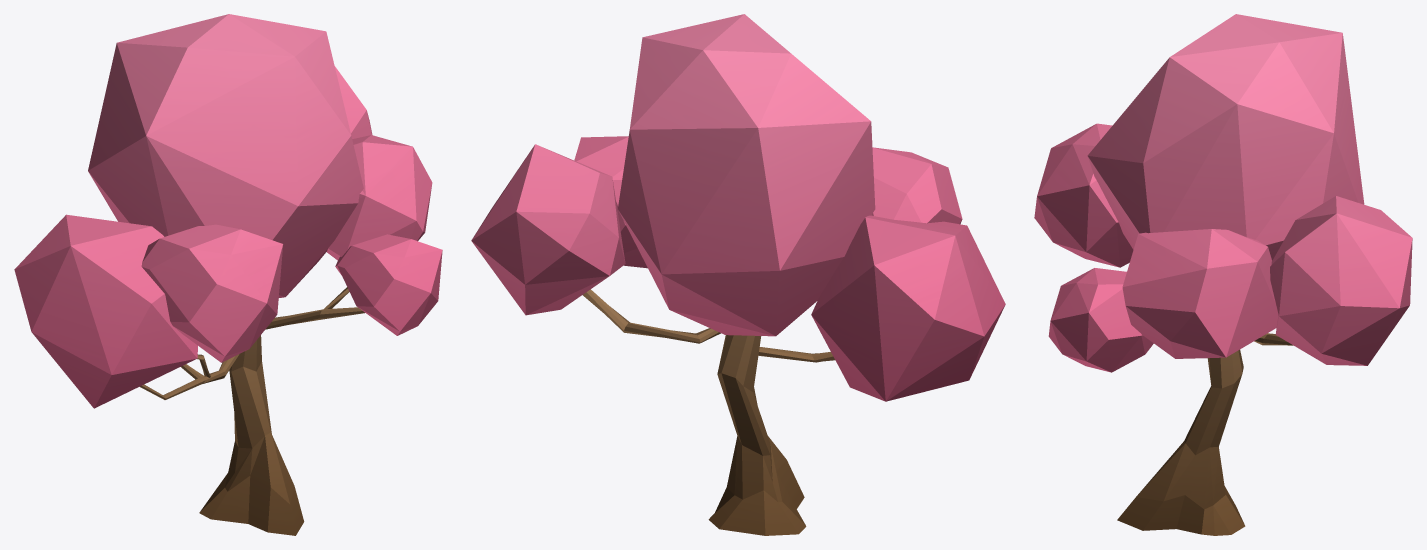
The model's file is tree_oak_pink.fbx.
3 renders of one model, left to right at view 1: azimuth 30°, elevation 25°; view 2: azimuth 150°, elevation 25°; view 3: azimuth 270°, elevation 25°, orthographic. The views are drawn at different scales.
Parts seen in each view (by area): view 1: tree_oak_pink; view 2: tree_oak_pink; view 3: tree_oak_pink.
Boxes of the visible parts, left/top/right/bottom form: tree_oak_pink: left=14, top=14, right=442, bottom=535; tree_oak_pink: left=471, top=14, right=1005, bottom=535; tree_oak_pink: left=1034, top=14, right=1412, bottom=535.
Size of the model in its own units: 7.55 by 8.32 by 5.9.
1 material, 1 textured.
